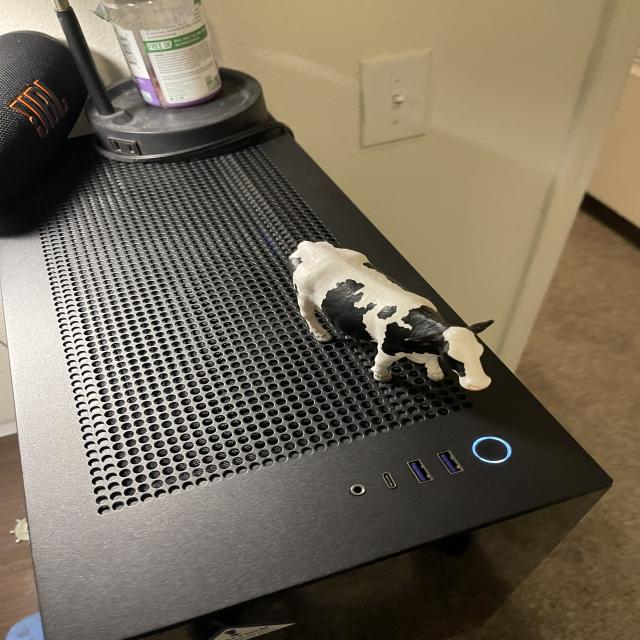cow: (257, 225, 516, 428)
